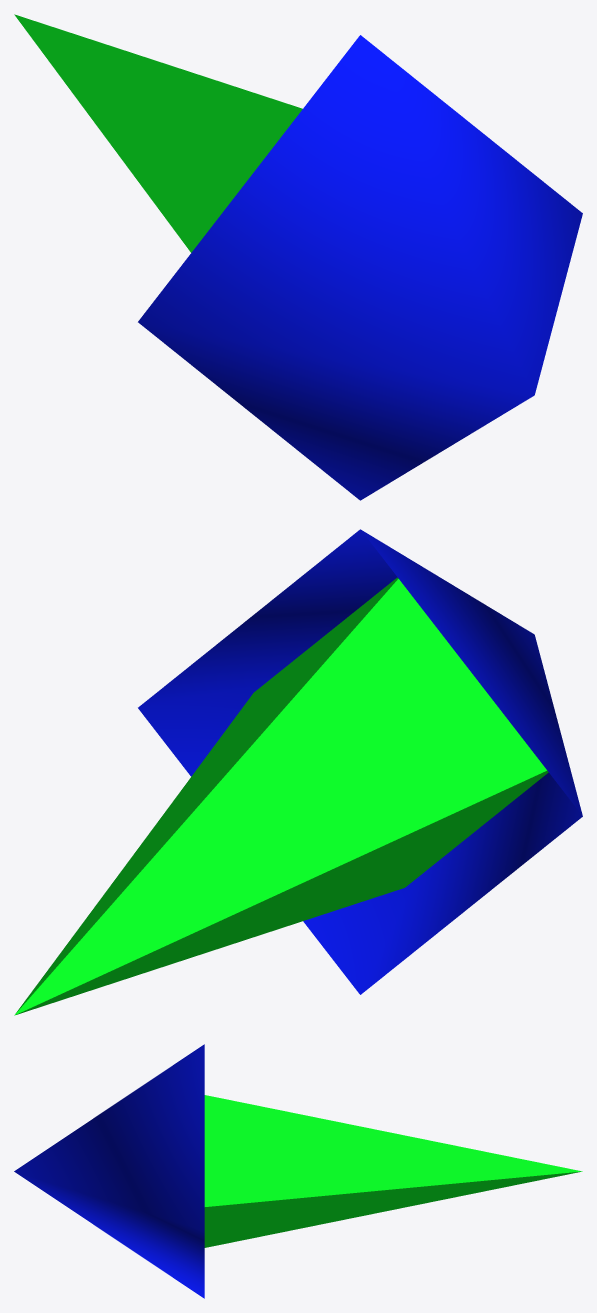
Rendered from ef-common-w3-skill0056-E02.FBX.
The picture shows the model from 3 angles, top to bottom: view 1: azimuth 30°, elevation 25°; view 2: azimuth 150°, elevation 25°; view 3: azimuth 270°, elevation 25°; orthographic projection. The views are drawn at different scales.
Visible parts, largest first — view 1: ef-common-w3-skill0056-E02; view 2: ef-common-w3-skill0056-E02; view 3: ef-common-w3-skill0056-E02.
Part boxes in pixels (bbox=[...]): ef-common-w3-skill0056-E02: bbox=[14, 14, 582, 500]; ef-common-w3-skill0056-E02: bbox=[14, 529, 582, 1015]; ef-common-w3-skill0056-E02: bbox=[14, 1044, 582, 1298].
Bounding box in the file's own units: 25.33 × 25.33 × 51.3.
